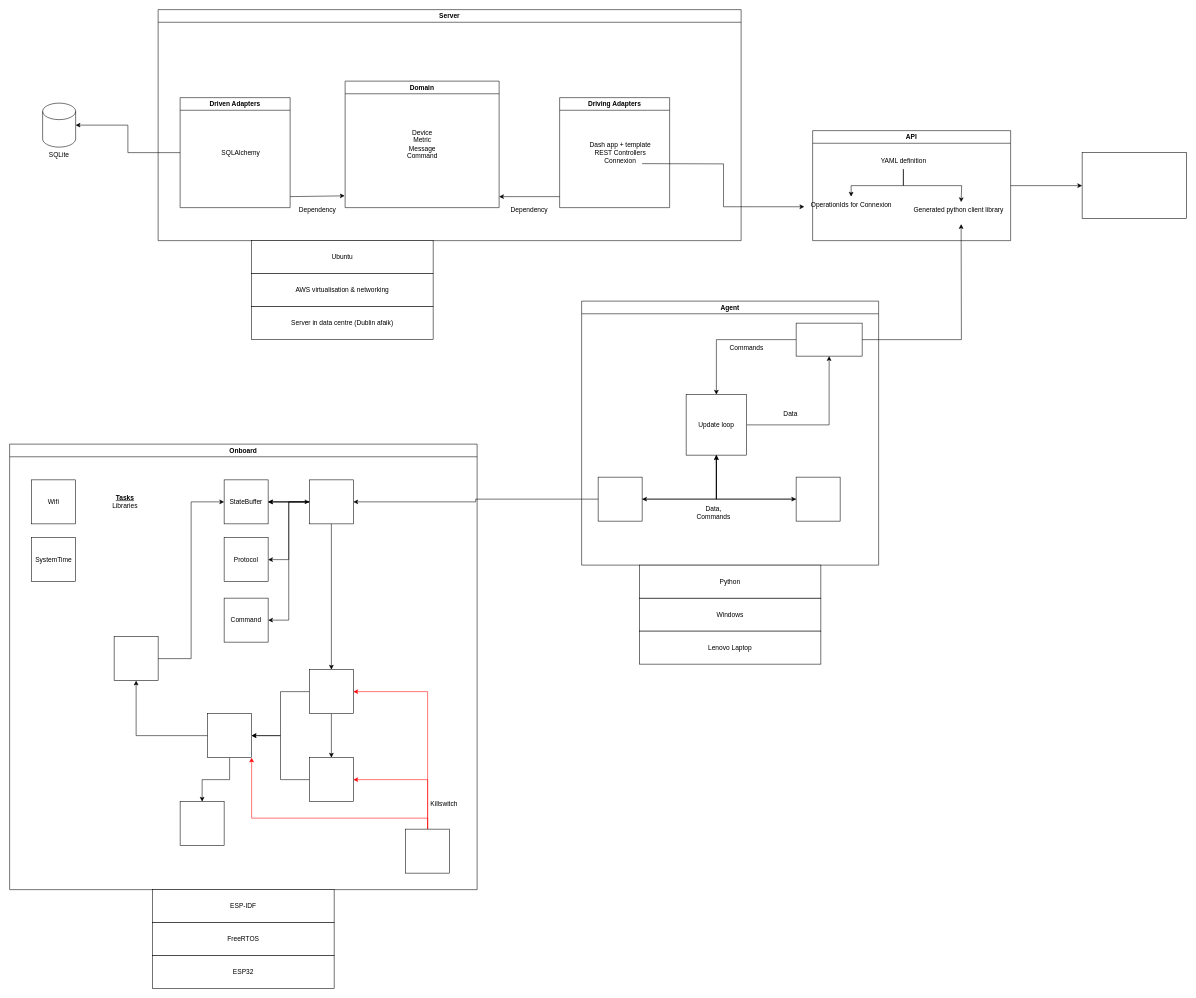
The diagram is 1196 pixels wide and 998 high, and some of its shapes have lost their labels. The centre of each missing label's shape, as x and y in pixels:
"Aggregator" belongs at point (136, 658).
"CI/CD: Github action - Tag -> release, usable generated code" belongs at point (1134, 185).
"Client" belongs at point (829, 339).
"Computer" belongs at point (818, 499).
"Controller" belongs at point (331, 691).
"Heater" belongs at point (620, 499).
"Heater (state)" belongs at point (229, 735).
"Main" belongs at point (427, 851).
"Simulator" belongs at point (202, 823).
"TCP_Server" belongs at point (331, 501).
"Thermostat" belongs at point (331, 779).
